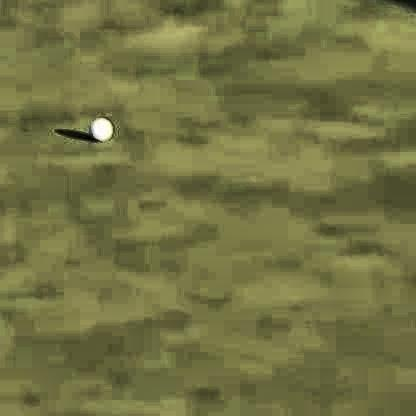golfball: (88, 110, 110, 138)
